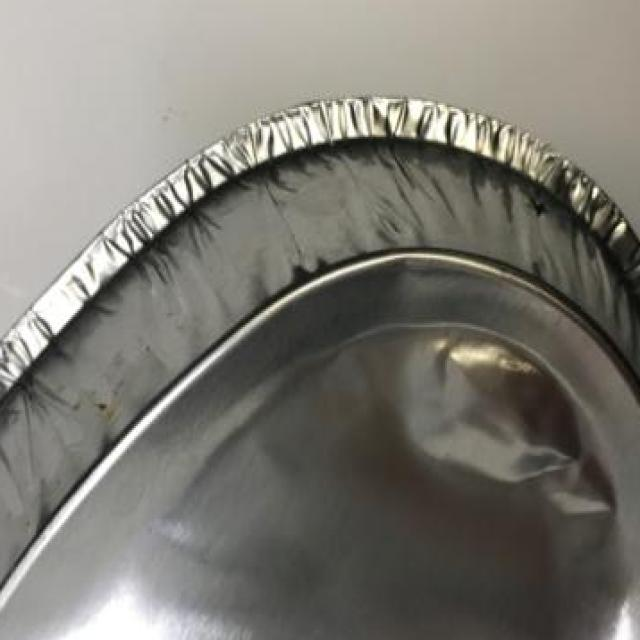organic: (0, 99, 640, 640)
